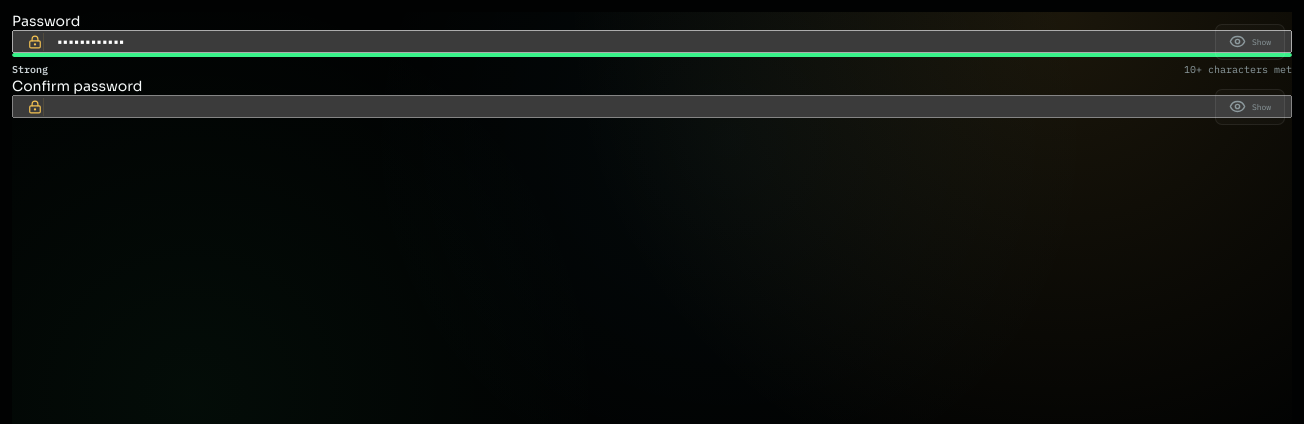
Test case: authentication experience › announces confirmation feedback only after the user starts typing
The width and height of the screenshot is (1304, 424).
In the password field labelled "Confirm password": (652, 106) [12, 95, 1292, 118], type "StrongPass1!"
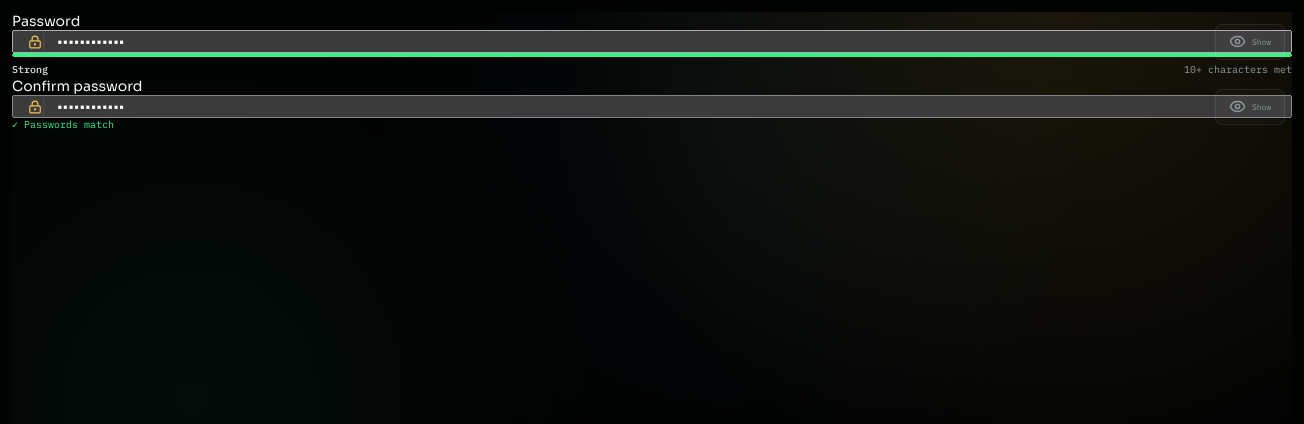
expect the text "Passwords match" is shown: met, box [24, 118, 114, 131]
